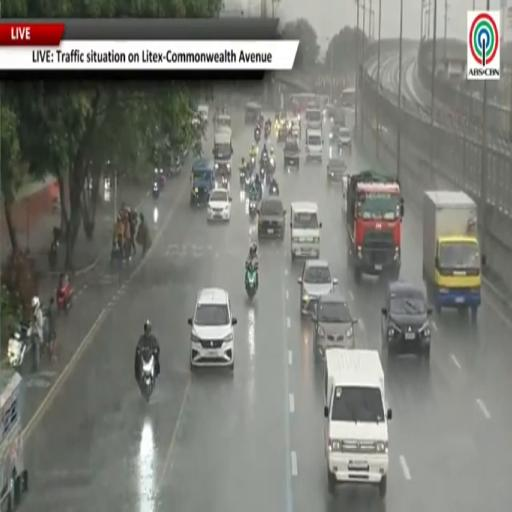bus: (289, 93, 317, 114), (341, 88, 355, 107)
car: (382, 281, 432, 360), (188, 288, 236, 369), (313, 293, 357, 357), (298, 260, 338, 315), (258, 198, 285, 239), (207, 188, 232, 221), (306, 128, 323, 163), (284, 138, 300, 170), (327, 156, 347, 181), (337, 127, 351, 151), (342, 173, 349, 214), (290, 116, 300, 139), (277, 122, 288, 142), (324, 103, 336, 121)
motorcycle: (8, 323, 31, 371), (139, 349, 155, 402), (56, 282, 73, 314), (245, 263, 257, 299), (48, 238, 59, 270), (111, 240, 124, 266), (239, 166, 247, 184), (219, 174, 228, 190), (249, 200, 257, 218), (158, 170, 165, 190), (269, 183, 279, 196), (153, 181, 160, 199), (268, 156, 275, 174), (264, 124, 270, 141), (249, 156, 255, 173), (245, 174, 251, 191), (259, 167, 265, 181), (153, 207, 158, 223), (254, 130, 260, 143)
truck: (324, 348, 392, 499), (423, 190, 485, 318), (346, 170, 404, 283), (0, 370, 28, 510), (213, 126, 233, 175)
